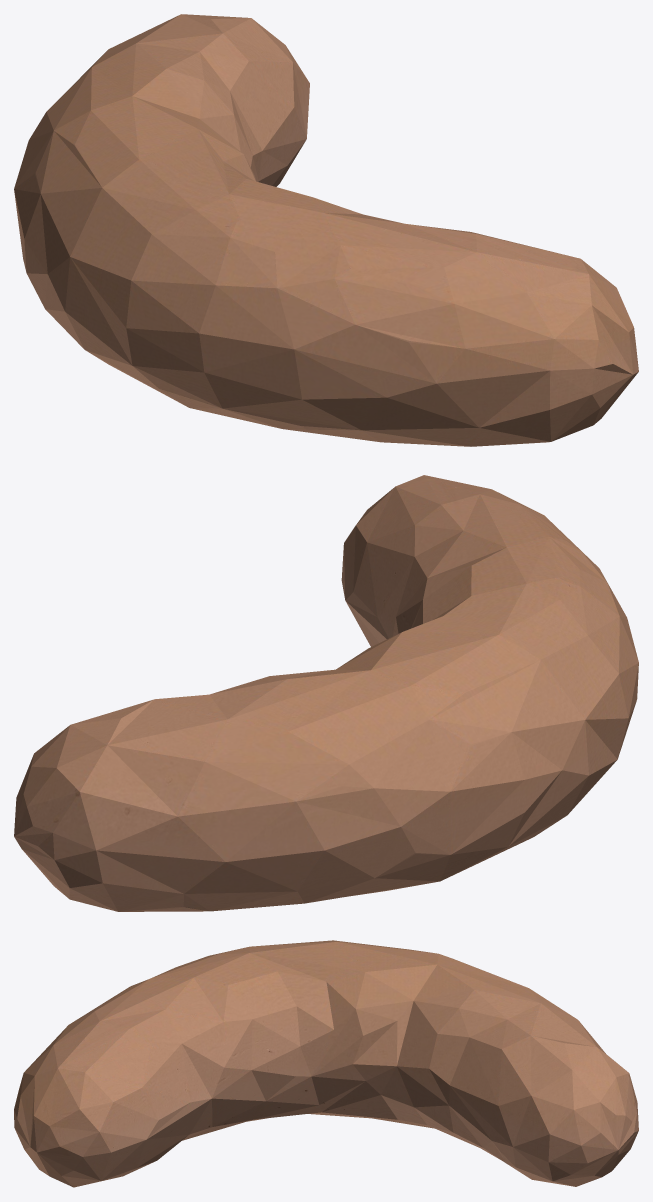
File: UINNER.obj
The picture shows the model from 3 angles, top to bottom: view 1: azimuth 30°, elevation 25°; view 2: azimuth 150°, elevation 25°; view 3: azimuth 270°, elevation 25°; orthographic projection. The views are drawn at different scales.
Visible parts, largest first — view 1: tripo_node_4f43eaae-c249-404a-84e8-e86a7f8abfeb; view 2: tripo_node_4f43eaae-c249-404a-84e8-e86a7f8abfeb; view 3: tripo_node_4f43eaae-c249-404a-84e8-e86a7f8abfeb.
Part boxes in pixels (x1,y1,x2,y2): tripo_node_4f43eaae-c249-404a-84e8-e86a7f8abfeb: (14,14,638,446); tripo_node_4f43eaae-c249-404a-84e8-e86a7f8abfeb: (14,475,638,911); tripo_node_4f43eaae-c249-404a-84e8-e86a7f8abfeb: (14,940,638,1187).
Bounding box in the file's own units: 0.5469 × 0.2791 × 1.
Materials: 1 (1 with a texture image).
